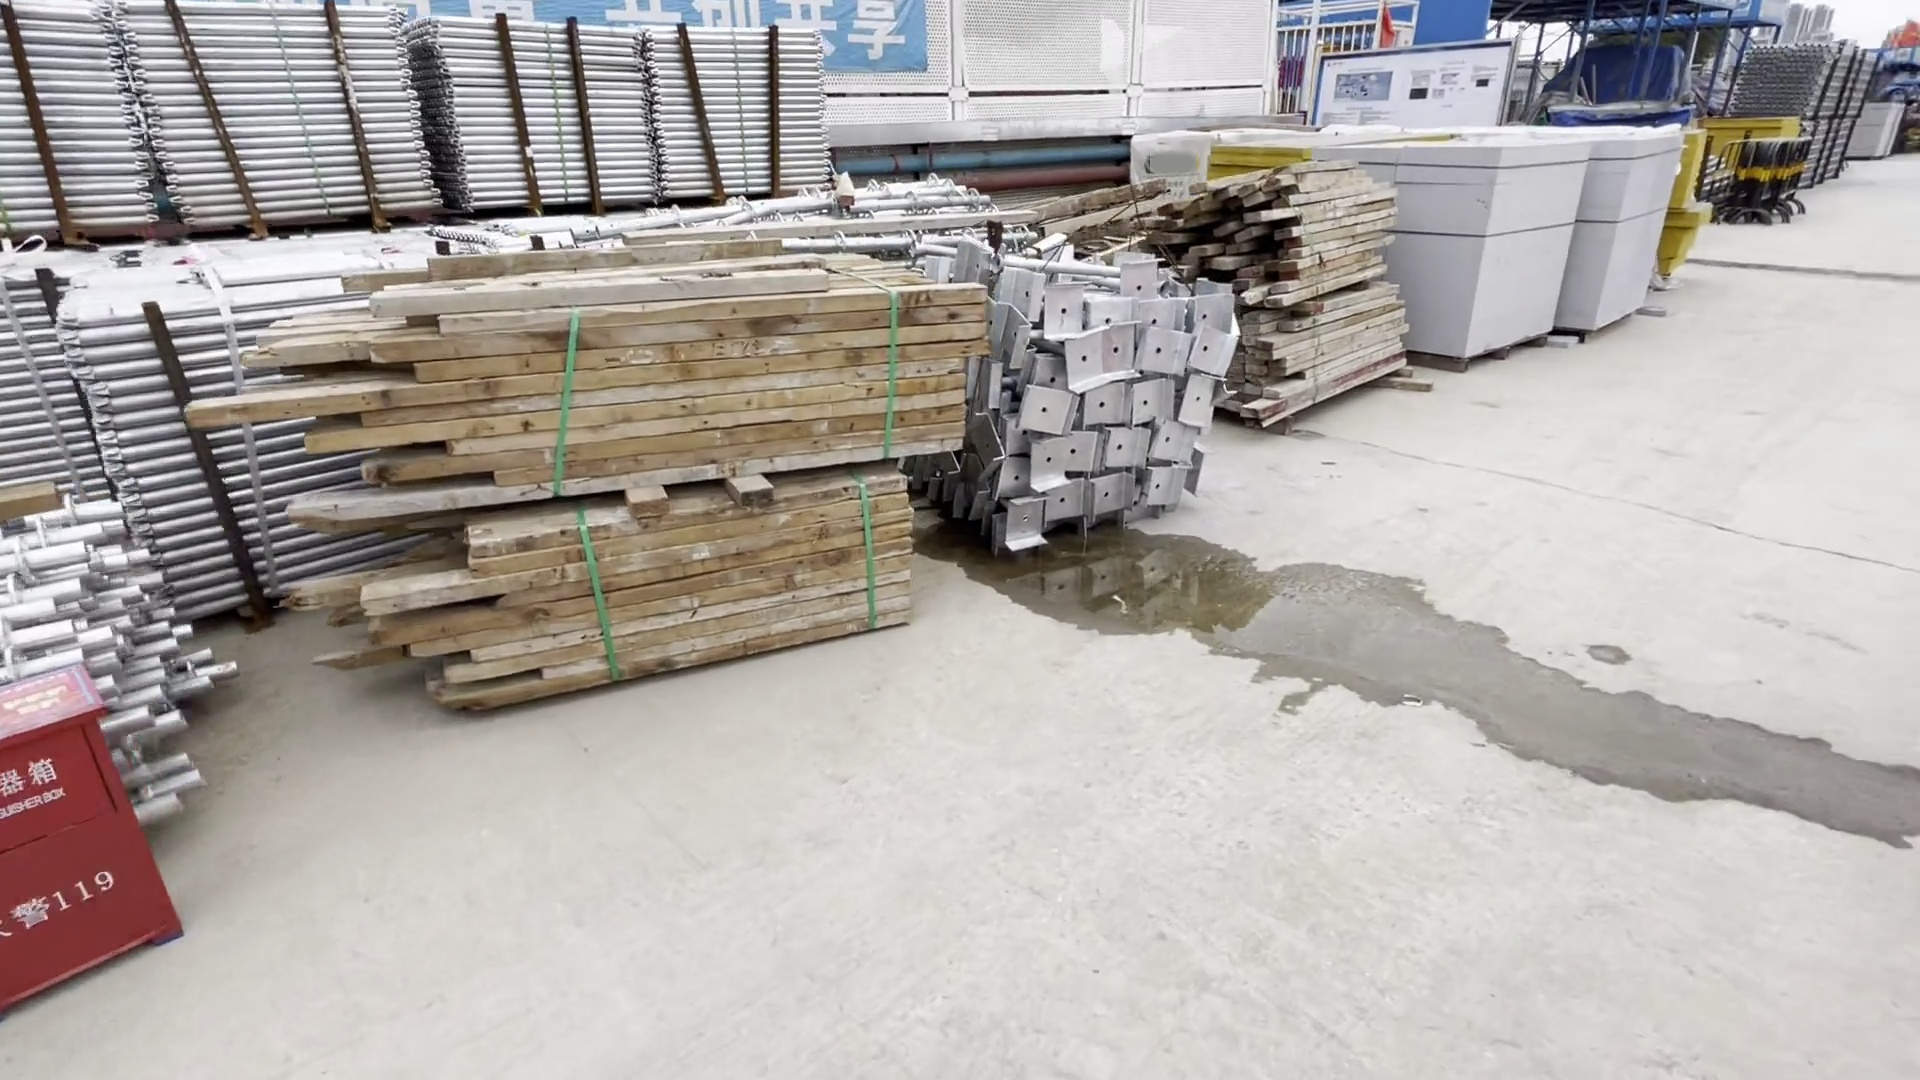brick: (1288, 131, 1701, 361), (1838, 99, 1907, 162)
scaffold: (1, 253, 398, 725), (1, 28, 843, 227)
slogan: (531, 5, 930, 78)
wood: (232, 268, 975, 684), (1230, 179, 1400, 405)
